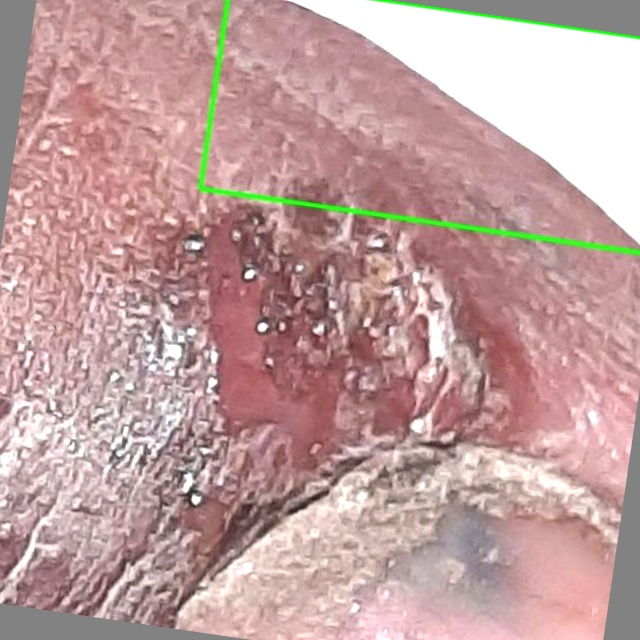Eczema: (200, 0, 639, 252)
